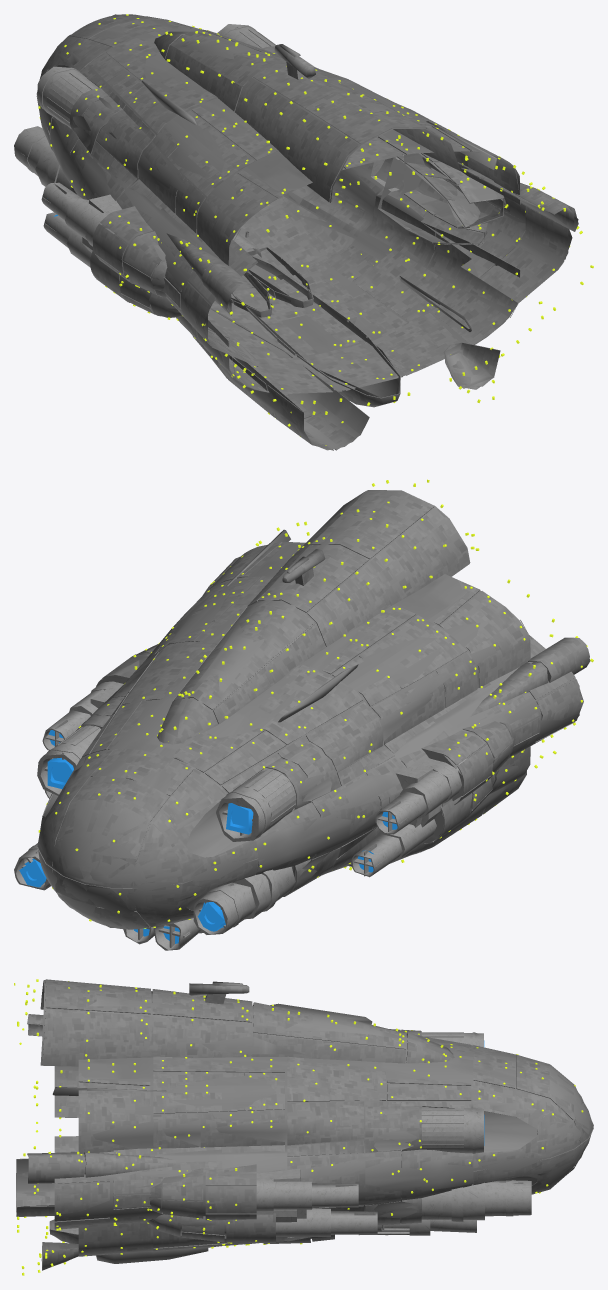
The model's file is capital_part3.glb.
3 renders of one model, top to bottom at view 1: azimuth 30°, elevation 25°; view 2: azimuth 150°, elevation 25°; view 3: azimuth 270°, elevation 25°, orthographic. The views are drawn at different scales.
Parts seen in each view (by area): view 1: Engines_3; view 2: Engines_3; view 3: Engines_3.
Part boxes in pixels (x1,y1,x2,y2): Engines_3: (14,14,593,450); Engines_3: (14,479,593,950); Engines_3: (14,979,593,1275).
Bounding box in the file's own units: 258 × 202 × 396.
3 materials, 3 textured.
